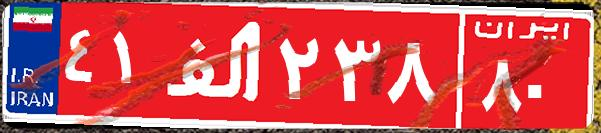0: (525, 38, 570, 115)
1: (110, 28, 158, 105)
2: (273, 28, 330, 110)
3: (330, 28, 385, 110)
4: (57, 26, 110, 107)
8: (385, 28, 445, 110), (475, 38, 525, 113)
الف: (158, 15, 273, 115)
